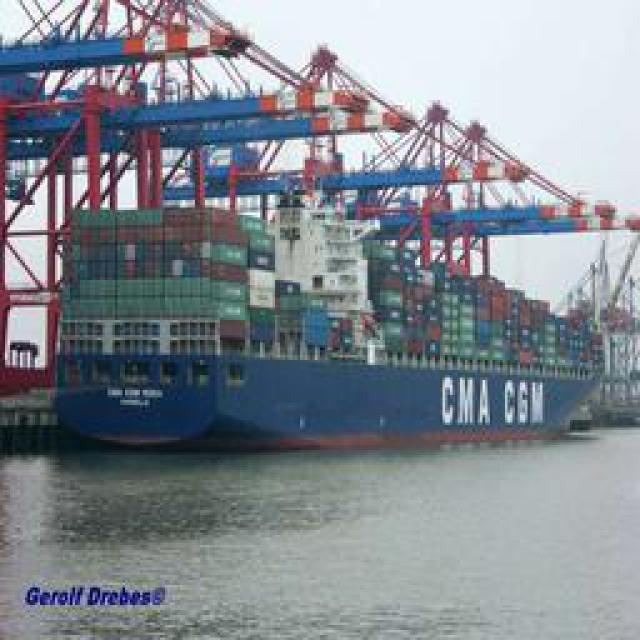Ship: (30, 121, 630, 456)
